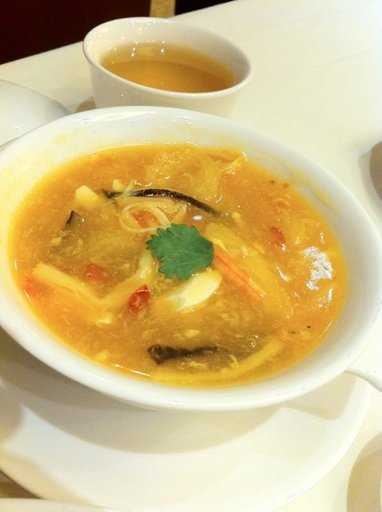soup: (28, 152, 323, 359)
